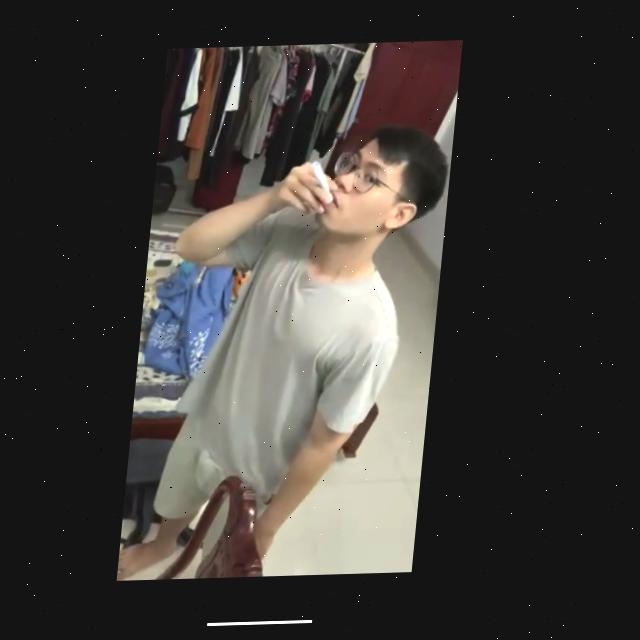cigarette: (312, 162, 338, 200)
